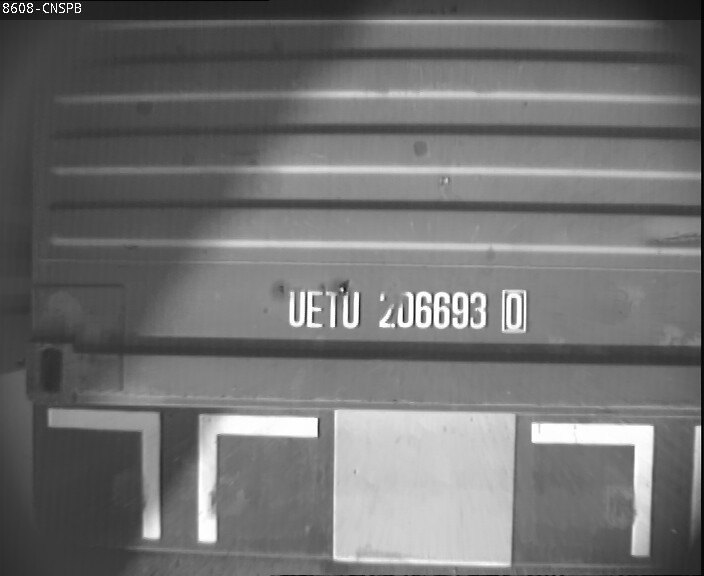groundmarker_1: (47, 407, 319, 541)
